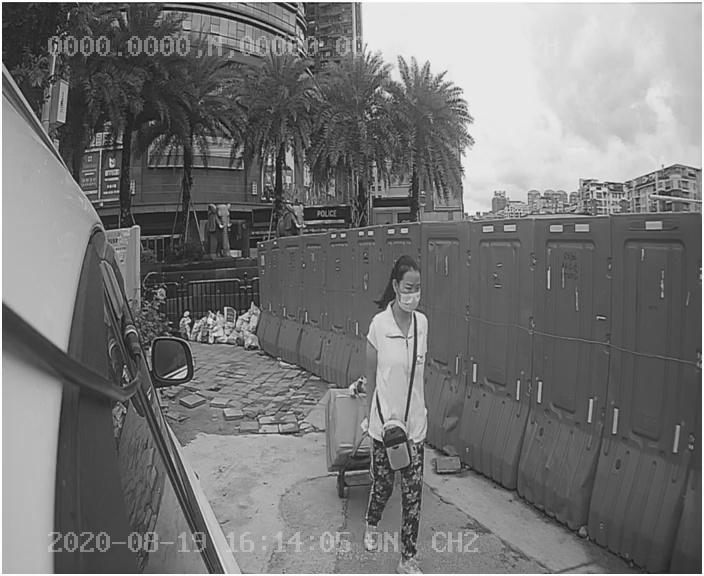person: (355, 258, 445, 541)
